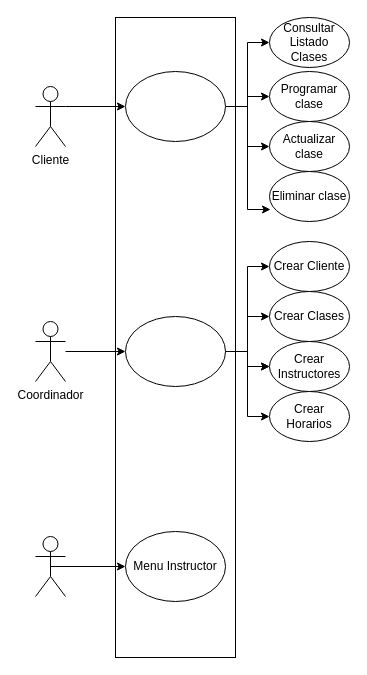
Image size: 367x675. Some labels were removed from this diagram. The shapes that lost their labels are listed below. From the top down, each one's box as (x1, y1, x2, y2) in pixels, then its label:
(124, 70, 226, 142): Menu Cliente
(124, 316, 226, 386): Menu Coordinador
(34, 536, 66, 596): Instructor
